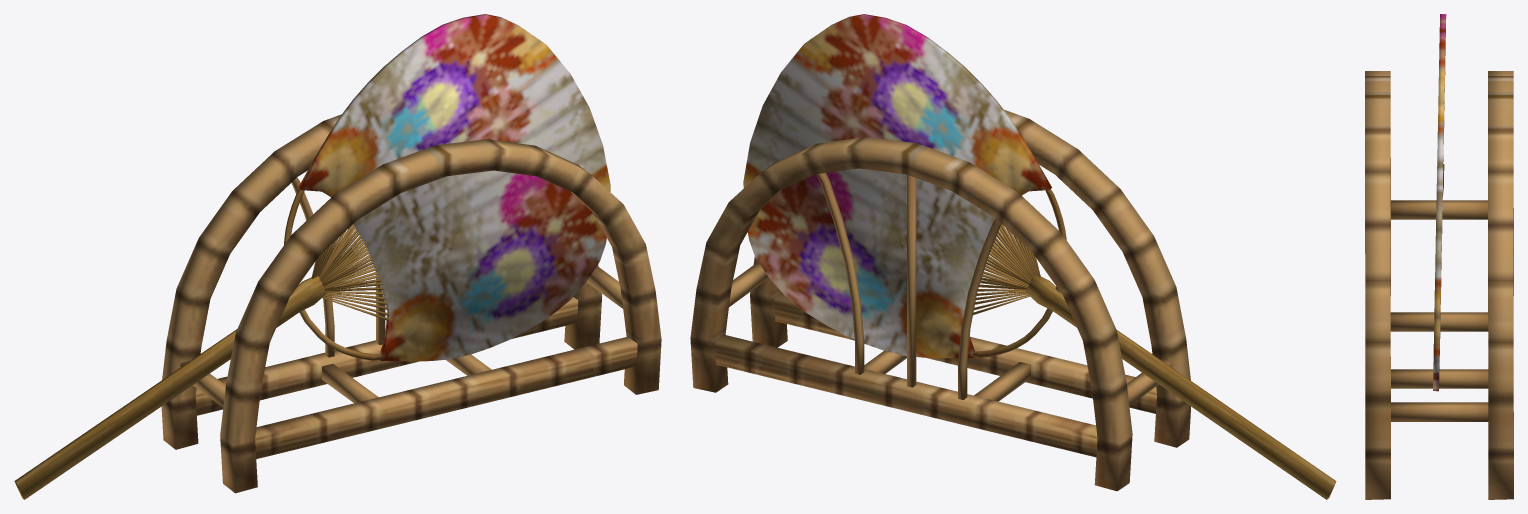
The model's file is Uchiwa1.a.fbx.
3 views of the same model, side by side, from view 1: azimuth 30°, elevation 25°; view 2: azimuth 150°, elevation 25°; view 3: azimuth 270°, elevation 25° (orthographic). The views are drawn at different scales.
Parts seen in each view (by area): view 1: Group 0; view 2: Group 0; view 3: Group 0.
Boxes of the visible parts, x1,y1,x2,y2 form: Group 0: [14, 14, 661, 499]; Group 0: [690, 14, 1336, 499]; Group 0: [1365, 14, 1513, 499].
Bounding box in the file's own units: 46.77 × 28.04 × 9.57.
Materials: 1 (1 with a texture image).
